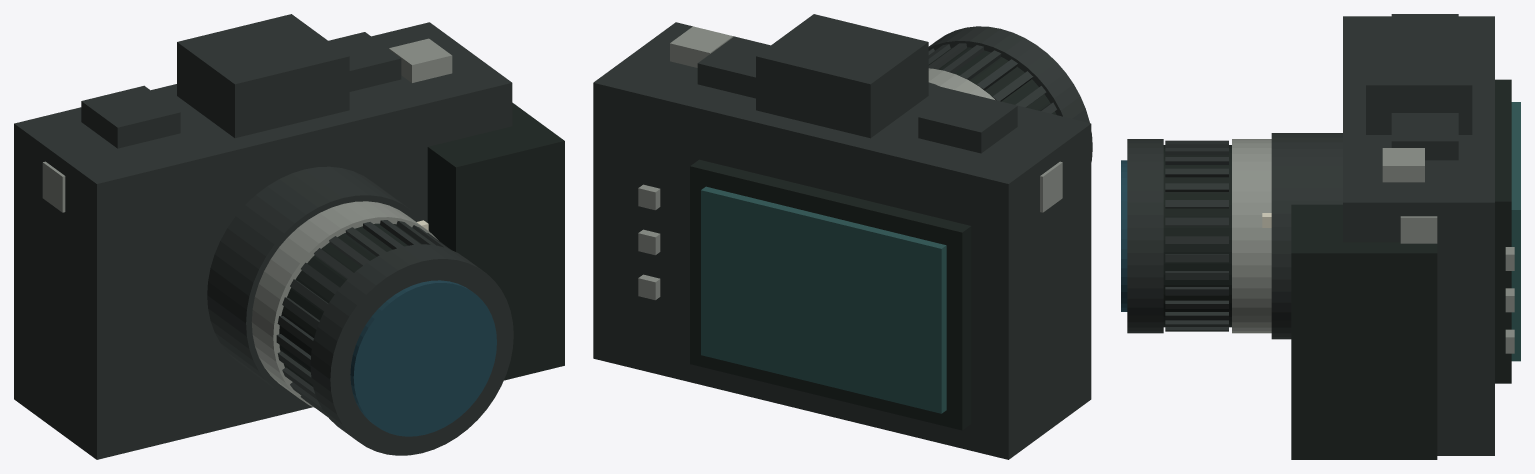
Rendered from field_camera.glb.
3 views of the same model, side by side, from view 1: azimuth 30°, elevation 25°; view 2: azimuth 150°, elevation 25°; view 3: azimuth 270°, elevation 25° (orthographic). The views are drawn at different scales.
Parts seen in each view (by area): view 1: Camera magnesium body, Textured right grip, Front optical glass, Top viewfinder, Lens hood, Lens mount, Mount ring, Top dial, Focus ring, Top dial.001, Shutter button, Strap lug; view 2: Camera magnesium body, Rear LCD, Rear screen bezel, Top viewfinder, Lens hood, Top dial, Top dial.001, Focus ring, Shutter button, Strap lug, Mount ring, Rear control key.001 (+2 smaller); view 3: Textured right grip, Camera magnesium body, Top viewfinder, Lens mount, Mount ring, Lens hood, Focus ring, Rear screen bezel, Top dial.001, Rear LCD, Shutter button, Top dial (+15 smaller).
Part boxes in pixels (x1,y1,x2,y2): Camera magnesium body: (14, 22, 512, 459); Textured right grip: (427, 102, 564, 380); Front optical glass: (350, 280, 496, 436); Top viewfinder: (177, 14, 349, 138); Lens hood: (310, 244, 513, 455); Lens mount: (207, 166, 429, 402); Mount ring: (251, 201, 438, 407); Top dial: (81, 85, 180, 148); Focus ring: (279, 223, 421, 386); Top dial.001: (328, 32, 401, 91); Shutter button: (389, 38, 452, 82); Strap lug: (42, 161, 65, 212); Camera magnesium body: (593, 22, 1091, 459); Rear LCD: (701, 186, 946, 413); Rear screen bezel: (690, 159, 971, 430); Top viewfinder: (756, 14, 928, 138); Lens hood: (928, 26, 1092, 161); Top dial: (918, 90, 1017, 153); Top dial.001: (697, 36, 769, 98); Focus ring: (928, 47, 1056, 114); Shutter button: (670, 26, 733, 67); Strap lug: (1040, 161, 1062, 212); Mount ring: (928, 68, 994, 99); Rear control key.001: (638, 229, 660, 255); Textured right grip: (1291, 204, 1437, 459); Camera magnesium body: (1343, 16, 1494, 455); Top viewfinder: (1366, 34, 1472, 134); Lens mount: (1271, 133, 1342, 339); Mount ring: (1232, 139, 1271, 333); Lens hood: (1127, 139, 1163, 333); Focus ring: (1163, 145, 1231, 327); Rear screen bezel: (1495, 79, 1511, 383); Top dial.001: (1391, 113, 1458, 160); Rear LCD: (1511, 102, 1520, 361); Shutter button: (1382, 148, 1424, 182); Top dial: (1391, 14, 1458, 33).
Size of the model in its own units: 0.1545 by 0.11 by 0.1315.
